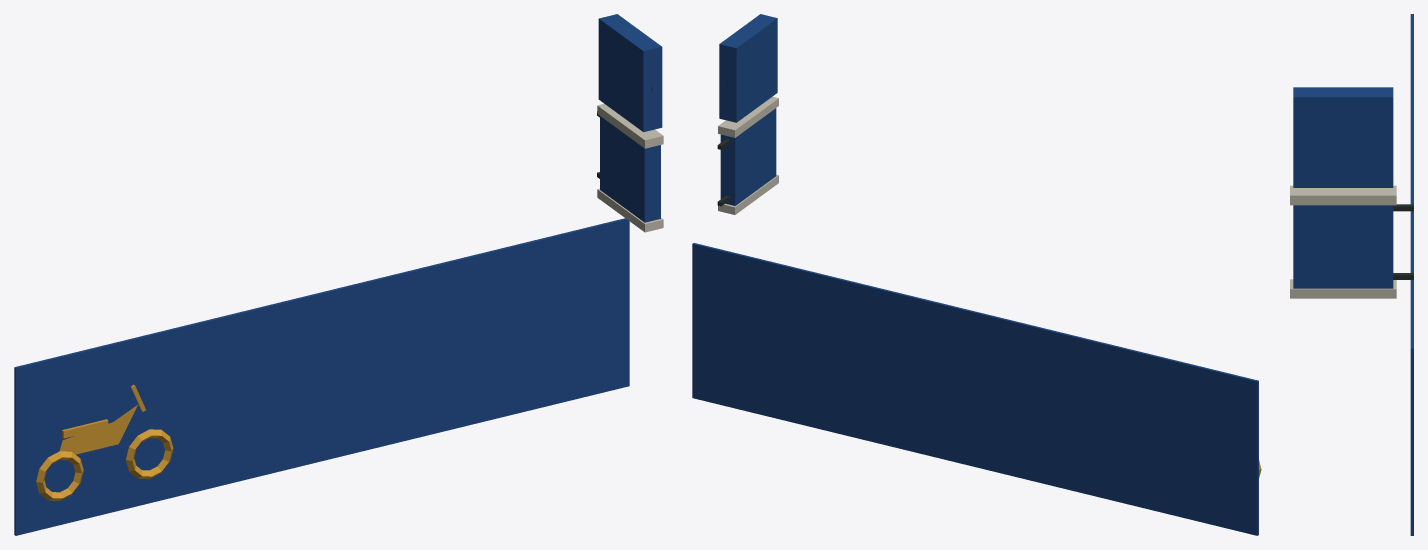
Rendered from bang_giu_xe_48.glb.
The picture shows the model from 3 angles, left to right: view 1: azimuth 30°, elevation 25°; view 2: azimuth 150°, elevation 25°; view 3: azimuth 270°, elevation 25°; orthographic projection. The views are drawn at different scales.
Visible parts, largest first — view 1: bang_giu_xe_48; view 2: bang_giu_xe_48; view 3: bang_giu_xe_48.
Boxes of the visible parts, box(x1,y1,x2,y2) form: bang_giu_xe_48: box(14, 14, 663, 535); bang_giu_xe_48: box(692, 14, 1261, 535); bang_giu_xe_48: box(1290, 14, 1413, 535).
Size of the model in its own units: 4.6 by 2.74 by 0.72.
